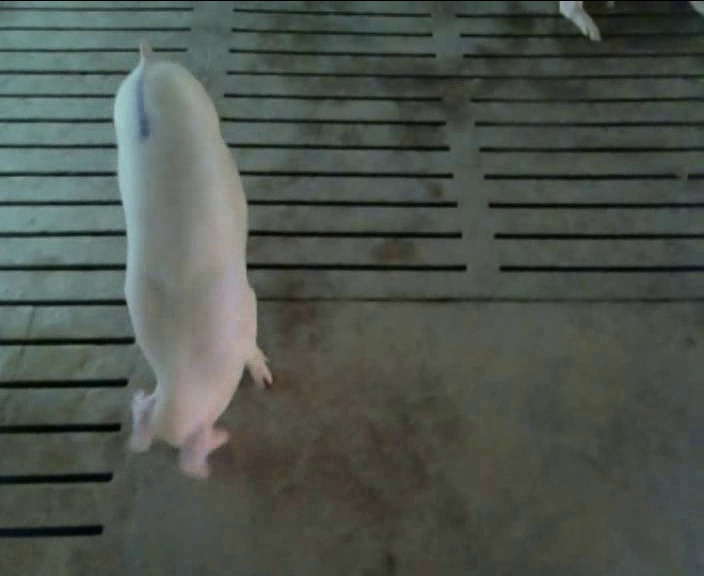pig: (114, 49, 271, 477)
